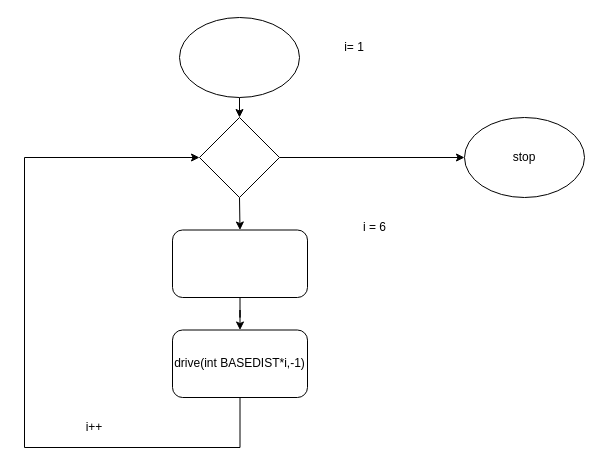
Image size: 602x473. Some labels were removed from this diagram. Here are the shapes that lost their labels. From the top down, the centre of each, then its label:
(x=239, y=57): start
(x=240, y=263): drive(int BASEDIST*i,1)
